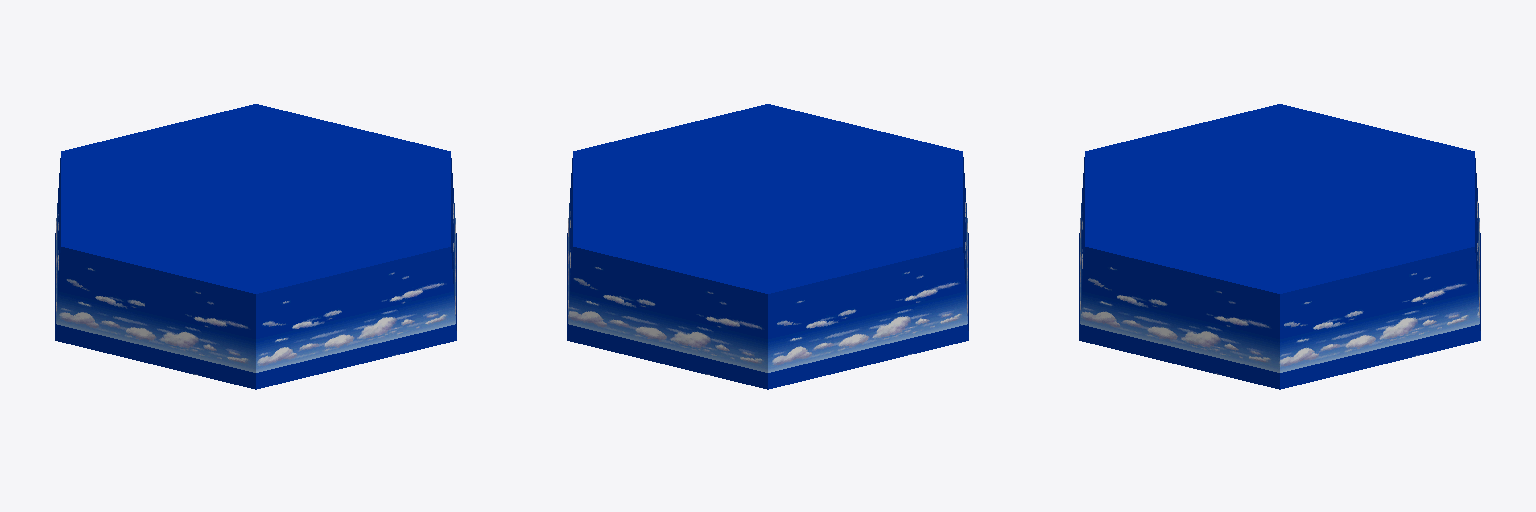
3 renders of one model, left to right at view 1: azimuth 30°, elevation 25°; view 2: azimuth 150°, elevation 25°; view 3: azimuth 270°, elevation 25°, orthographic.
Parts seen in each view (by area): view 1: polygon1; view 2: polygon1; view 3: polygon1.
Boxes of the visible parts, box(x1,y1,x2,y2) form: polygon1: box(55, 104, 456, 389); polygon1: box(567, 104, 968, 389); polygon1: box(1079, 104, 1480, 389).
Size of the model in its own units: 1445 by 391 by 1251.
Materials: 2 (2 with a texture image).